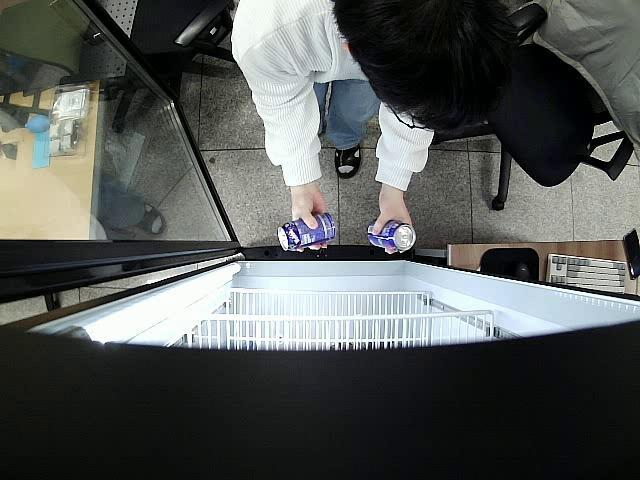14_welchsGrape: (278, 212, 336, 252), (367, 219, 418, 252)
